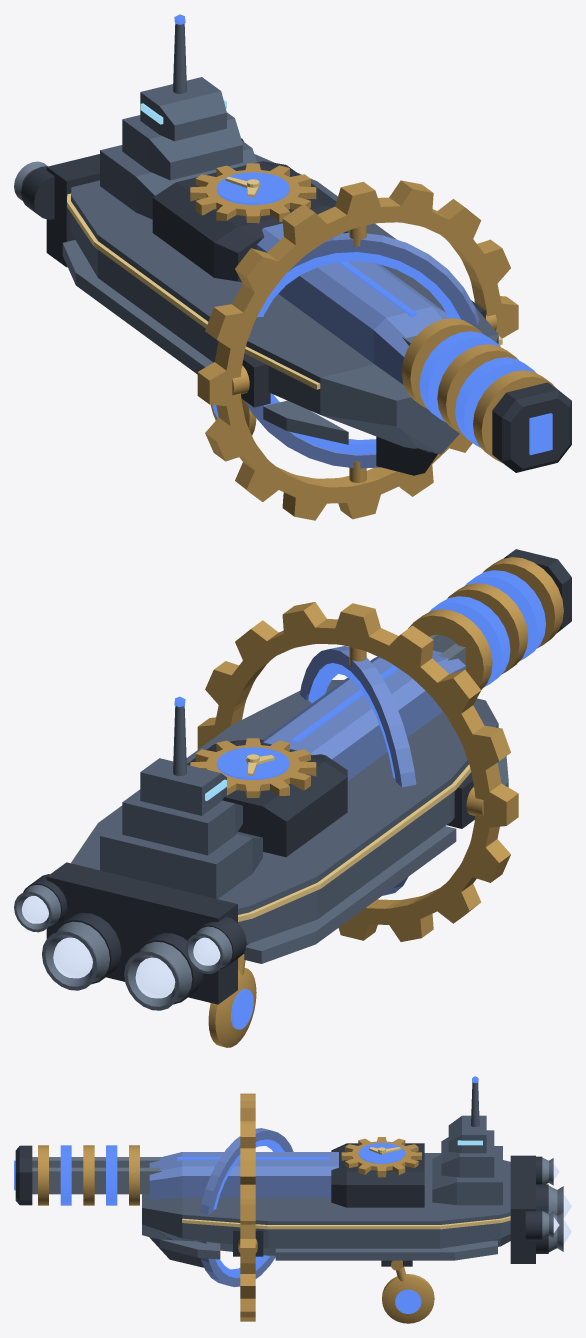
The model's file is pendulum_wreck.glb.
The picture shows the model from 3 angles, top to bottom: view 1: azimuth 30°, elevation 25°; view 2: azimuth 150°, elevation 25°; view 3: azimuth 270°, elevation 25°; orthographic projection. The views are drawn at different scales.
Parts seen in each view (by area): view 1: pendulum_wreck_00, pendulum_wreck_16, pendulum_wreck_05, pendulum_wreck_13, pendulum_wreck_03, pendulum_wreck_21, pendulum_wreck_09, pendulum_wreck_19, pendulum_wreck_04, pendulum_wreck_15, pendulum_wreck_17, pendulum_wreck_10 (+6 smaller); view 2: pendulum_wreck_02, pendulum_wreck_00, pendulum_wreck_16, pendulum_wreck_13, pendulum_wreck_17, pendulum_wreck_05, pendulum_wreck_19, pendulum_wreck_10, pendulum_wreck_03, pendulum_wreck_09, pendulum_wreck_15, pendulum_wreck_11 (+9 smaller); view 3: pendulum_wreck_18, pendulum_wreck_06, pendulum_wreck_12, pendulum_wreck_02, pendulum_wreck_03, pendulum_wreck_11, pendulum_wreck_14, pendulum_wreck_01, pendulum_wreck_09, pendulum_wreck_19, pendulum_wreck_07, pendulum_wreck_16 (+6 smaller).
Boxes of the visible parts, x1,y1,x2,y2 form: pendulum_wreck_00: [116, 196, 293, 369]; pendulum_wreck_16: [97, 103, 233, 280]; pendulum_wreck_05: [191, 294, 347, 448]; pendulum_wreck_13: [235, 181, 370, 341]; pendulum_wreck_03: [352, 180, 481, 335]; pendulum_wreck_21: [278, 327, 426, 475]; pendulum_wreck_09: [455, 361, 571, 472]; pendulum_wreck_19: [402, 318, 527, 435]; pendulum_wreck_04: [301, 434, 422, 519]; pendulum_wreck_15: [208, 393, 336, 520]; pendulum_wreck_17: [14, 145, 122, 254]; pendulum_wreck_10: [50, 193, 125, 315]; pendulum_wreck_02: [14, 800, 178, 1000]; pendulum_wreck_00: [284, 734, 432, 913]; pendulum_wreck_16: [144, 774, 348, 888]; pendulum_wreck_13: [309, 604, 481, 774]; pendulum_wreck_17: [131, 853, 254, 1010]; pendulum_wreck_05: [388, 712, 518, 869]; pendulum_wreck_19: [410, 572, 536, 669]; pendulum_wreck_10: [221, 878, 357, 1001]; pendulum_wreck_03: [235, 602, 431, 725]; pendulum_wreck_09: [472, 549, 571, 660]; pendulum_wreck_15: [380, 856, 507, 941]; pendulum_wreck_11: [193, 661, 284, 753]; pendulum_wreck_18: [273, 1150, 370, 1260]; pendulum_wreck_06: [351, 1141, 468, 1235]; pendulum_wreck_12: [359, 1188, 497, 1260]; pendulum_wreck_02: [467, 1152, 571, 1263]; pendulum_wreck_03: [169, 1106, 284, 1212]; pendulum_wreck_11: [226, 1185, 332, 1280]; pendulum_wreck_14: [153, 1184, 235, 1270]; pendulum_wreck_01: [83, 1153, 175, 1255]; pendulum_wreck_09: [14, 1145, 74, 1205]; pendulum_wreck_19: [65, 1145, 148, 1198]; pendulum_wreck_07: [381, 1260, 434, 1323]; pendulum_wreck_16: [388, 1119, 501, 1192].
Size of the model in its own units: 4.51 by 5.38 by 11.05.
